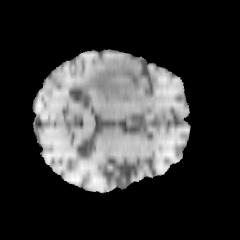glioma: (77, 57, 143, 104)
